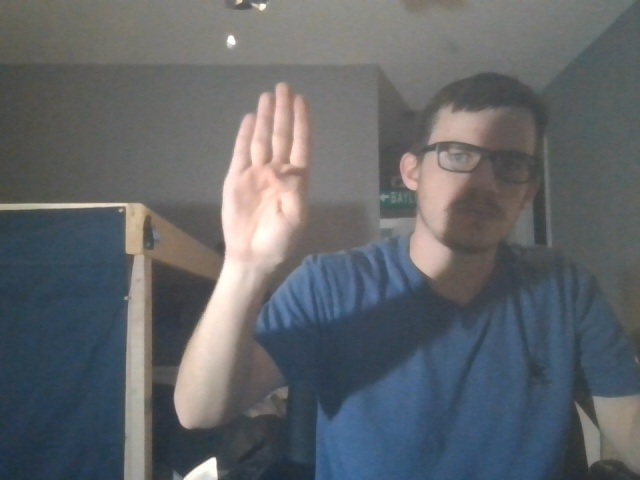B: (209, 76, 348, 275)
